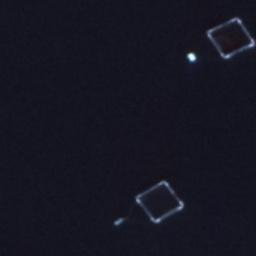square_solid: (131, 178, 188, 227), (202, 14, 256, 62)
